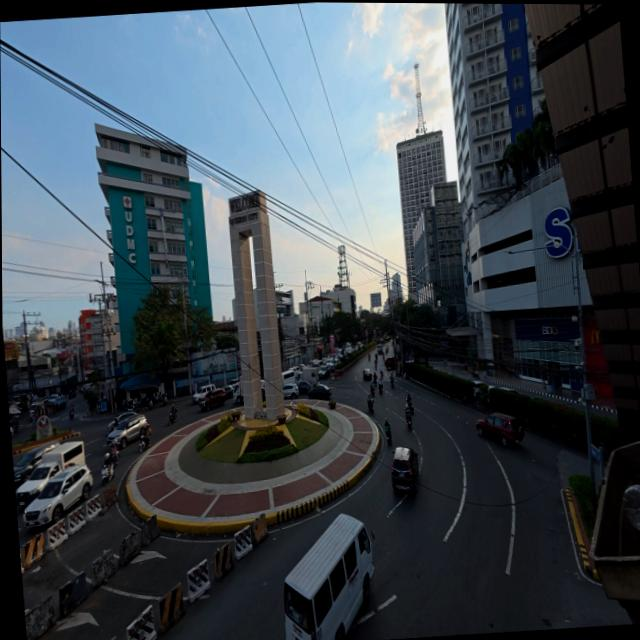car: (24, 466, 93, 526), (13, 442, 58, 487), (476, 413, 524, 446), (107, 415, 147, 449), (391, 447, 419, 492), (107, 410, 138, 433), (200, 389, 227, 411), (190, 382, 216, 404), (308, 383, 331, 400), (473, 380, 488, 398), (283, 383, 299, 399), (297, 381, 313, 393), (498, 387, 520, 394), (319, 365, 330, 379), (385, 357, 396, 370), (223, 386, 233, 399), (363, 369, 372, 381), (326, 359, 334, 370), (68, 390, 77, 398), (378, 346, 384, 356), (10, 427, 14, 438), (358, 343, 364, 349)
motorcycle: (99, 452, 116, 485), (139, 429, 150, 452), (156, 392, 167, 406), (367, 397, 374, 413), (385, 428, 391, 444), (169, 411, 177, 423), (472, 368, 479, 379), (406, 416, 412, 428), (389, 375, 394, 388), (148, 398, 153, 410), (69, 408, 74, 419), (409, 404, 414, 415), (379, 385, 383, 395), (381, 371, 383, 379), (375, 361, 377, 369), (369, 354, 371, 361)
trucks: (302, 366, 319, 384)
vans: (284, 514, 373, 639), (42, 441, 85, 469), (282, 369, 297, 384)
